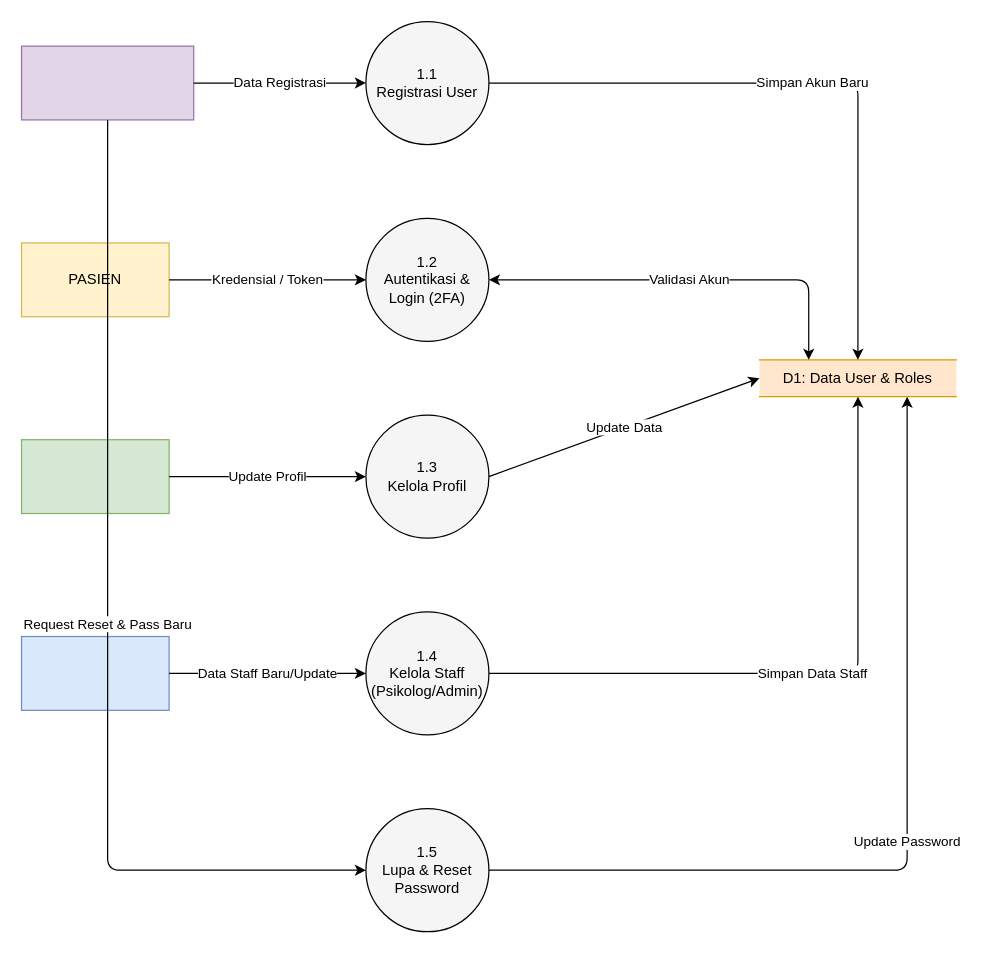
Image size: 982x953. Some labels were removed from this diagram. Here are the shapes that lost their labels. From the top down, the centre of each, then its label:
the point at 107,82: PENGUNJUNG / USER
the point at 94,476: PSIKOLOG
the point at 94,672: ADMIN
